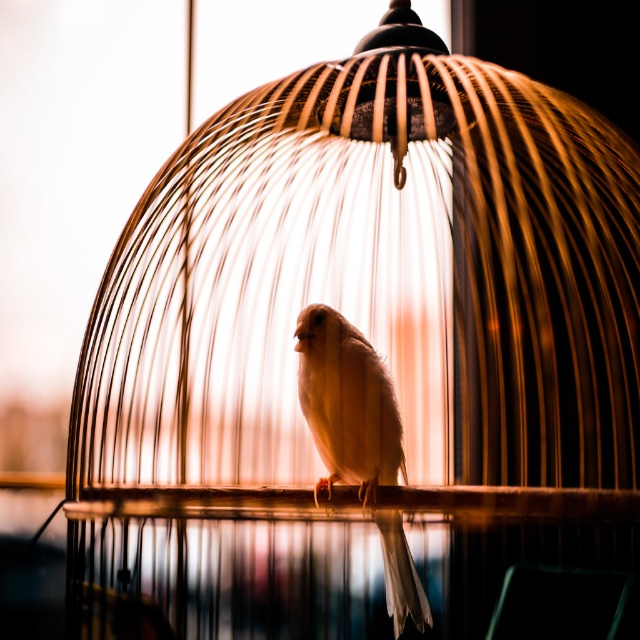Canary: (293, 303, 436, 639)
